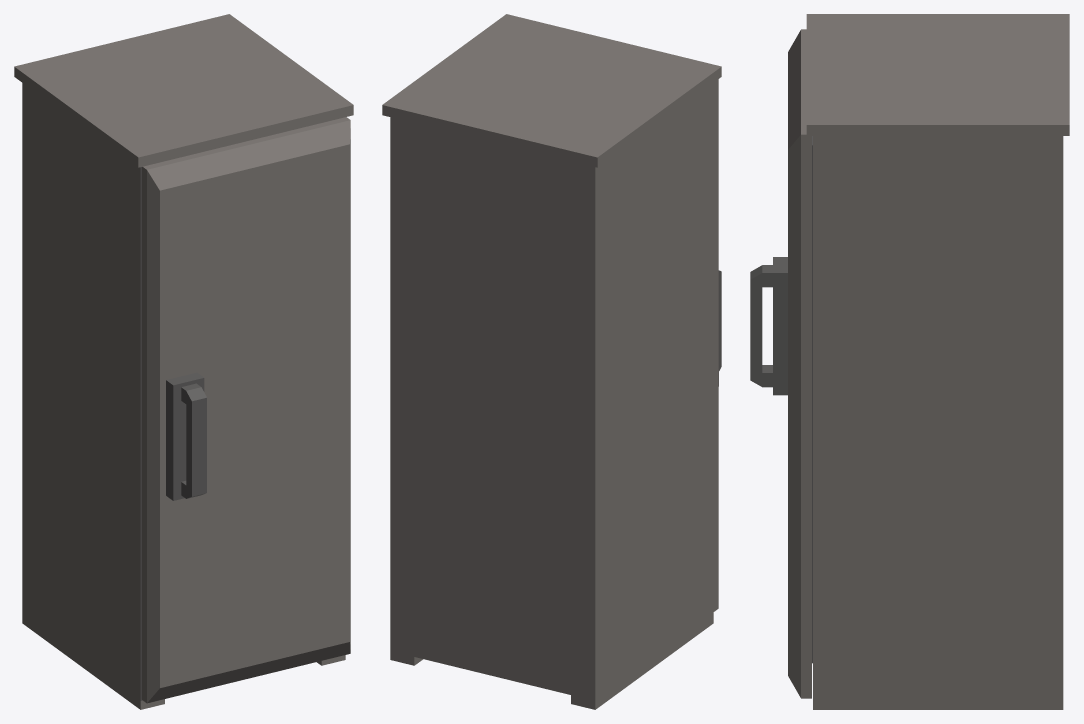
Rendered from freezerhight_01_A.gltf.
3 views of the same model, side by side, from view 1: azimuth 30°, elevation 25°; view 2: azimuth 150°, elevation 25°; view 3: azimuth 270°, elevation 25° (orthographic). The views are drawn at different scales.
Visible parts, largest first — view 1: Doorfreezer_01_A, freezerhight_01_A; view 2: freezerhight_01_A, Doorfreezer_01_A; view 3: freezerhight_01_A, Doorfreezer_01_A.
Part boxes in pixels (bbox=[...]): Doorfreezer_01_A: bbox=[141, 117, 350, 703]; freezerhight_01_A: bbox=[14, 14, 353, 709]; freezerhight_01_A: bbox=[382, 14, 721, 709]; Doorfreezer_01_A: bbox=[713, 79, 721, 611]; freezerhight_01_A: bbox=[806, 14, 1069, 709]; Doorfreezer_01_A: bbox=[750, 29, 812, 698].
Size of the model in its own units: 0.6297 by 1.55 by 0.7646.
Materials: 1 (1 with a texture image).
